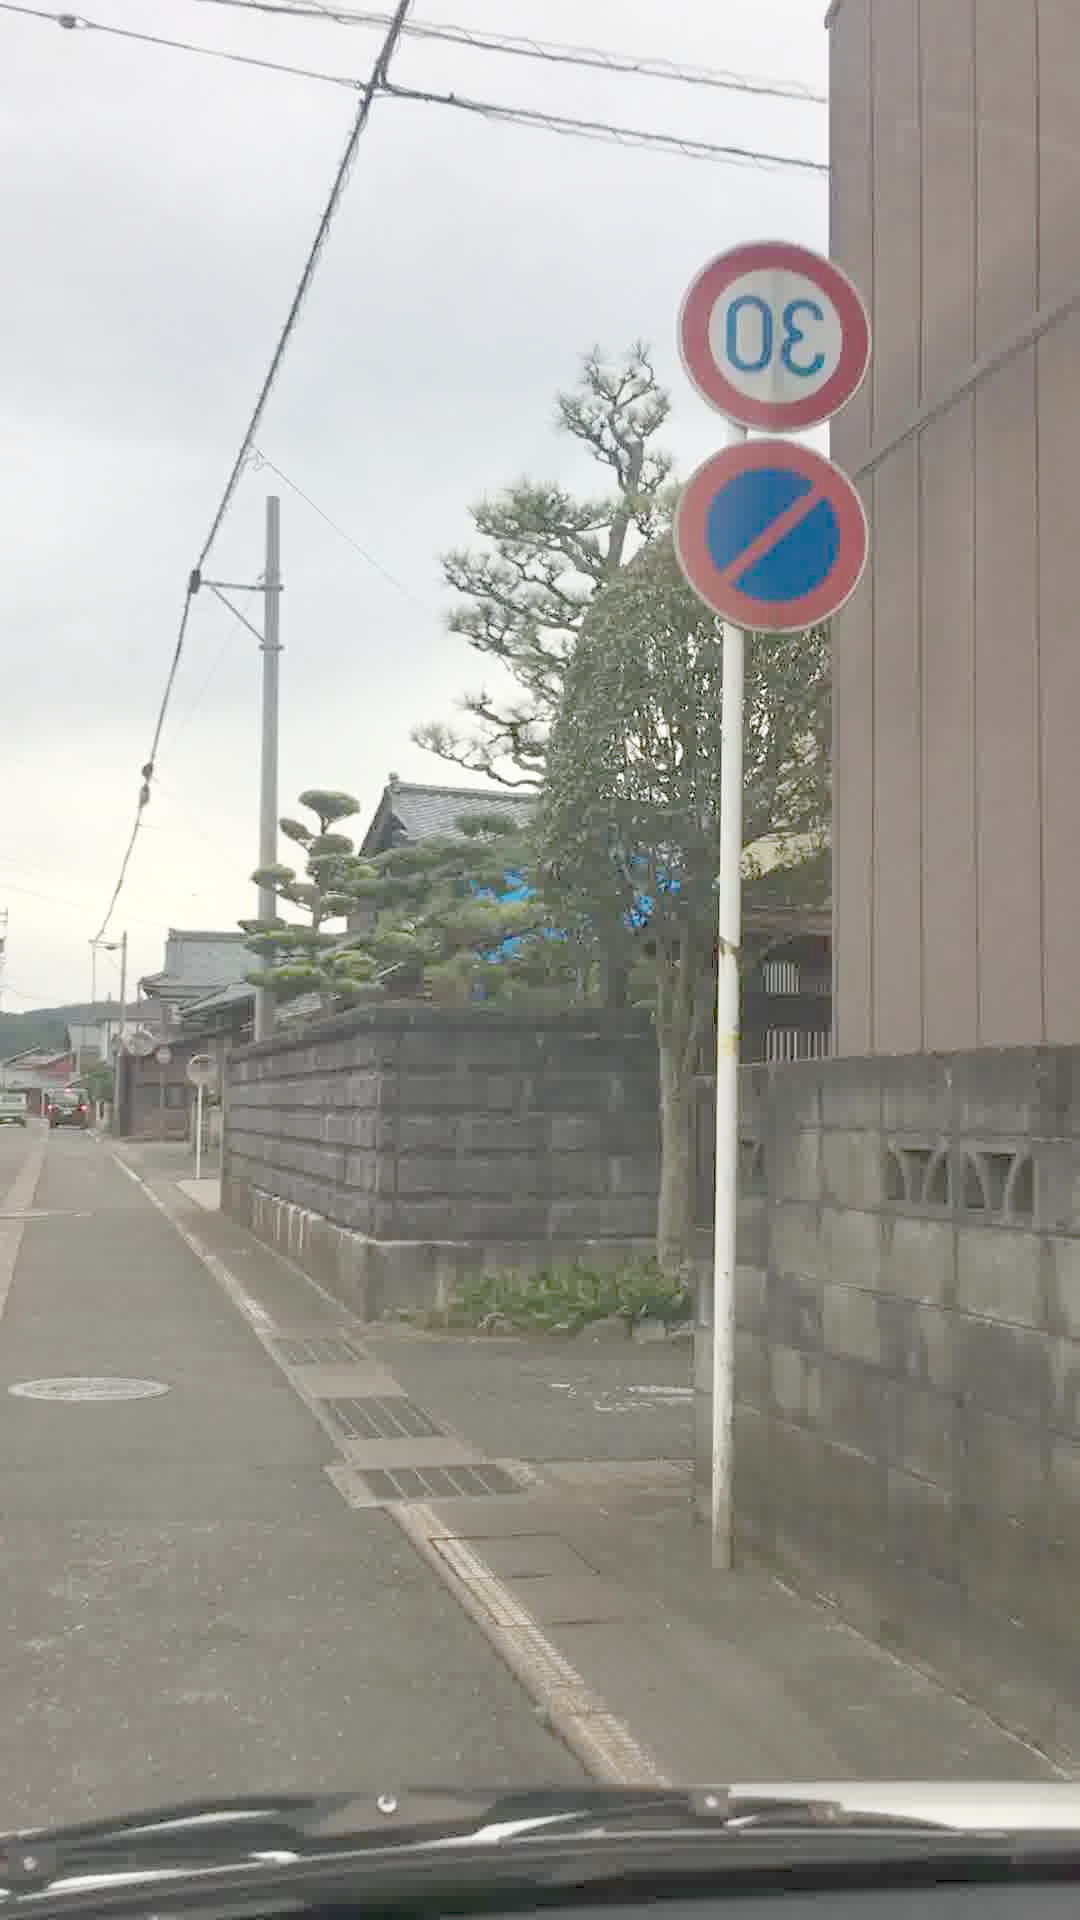Prohibition_sign: (644, 450, 887, 662)
Speed_sign: (655, 237, 884, 448)
